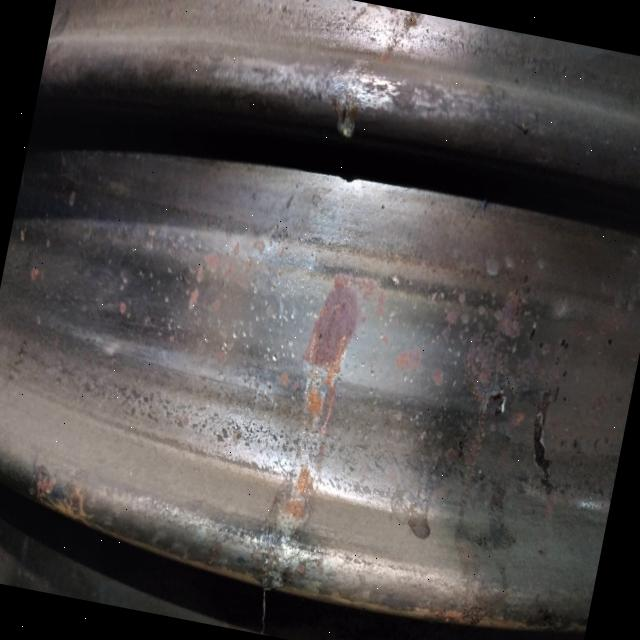Out_Of_Roundness: (251, 469, 325, 604), (319, 70, 377, 154)
